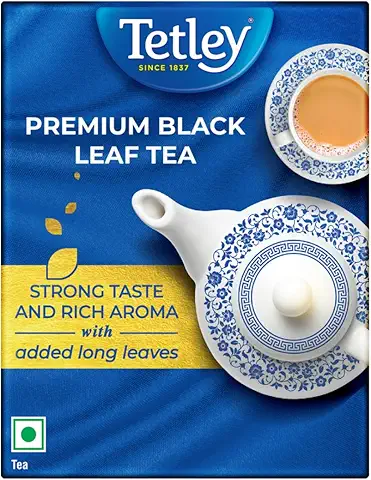Tea: (2, 2, 371, 480)
